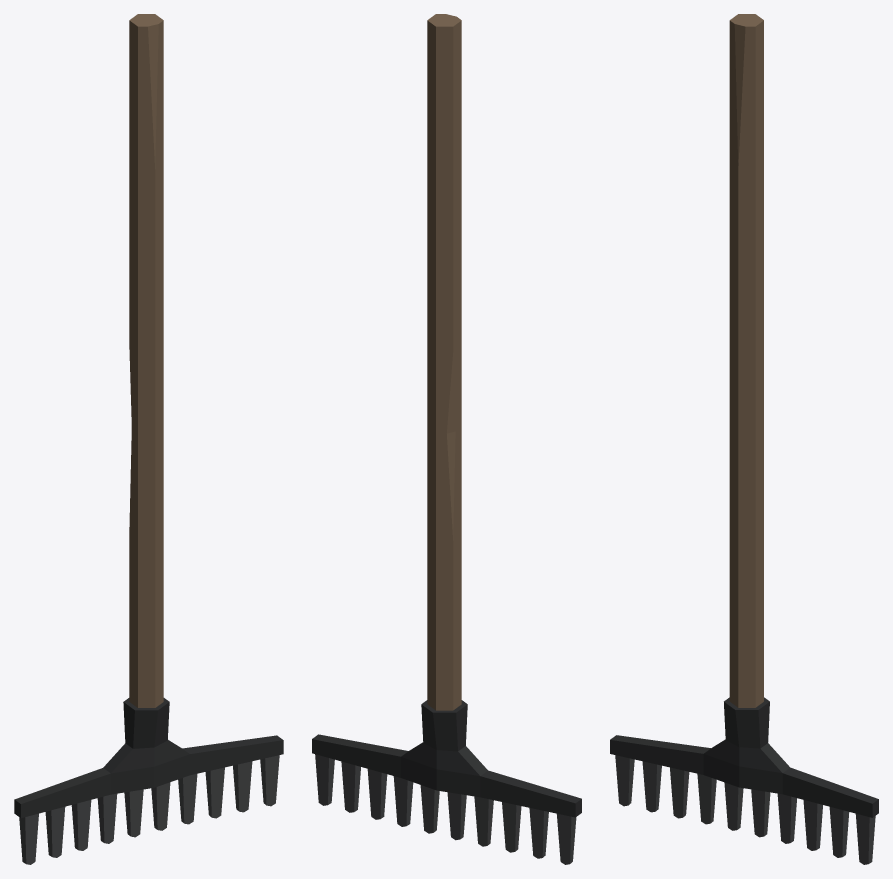
The model's file is SM_Props_Farm_Tool_Rake_01.fbx.
3 renders of one model, left to right at view 1: azimuth 30°, elevation 25°; view 2: azimuth 150°, elevation 25°; view 3: azimuth 330°, elevation 25°, orthographic.
Parts seen in each view (by area): view 1: SM_Props_Farm_Tool_Rake_01; view 2: SM_Props_Farm_Tool_Rake_01; view 3: SM_Props_Farm_Tool_Rake_01.
Boxes of the visible parts, x1,y1,x2,y2 form: SM_Props_Farm_Tool_Rake_01: (14, 14, 283, 864); SM_Props_Farm_Tool_Rake_01: (312, 14, 581, 864); SM_Props_Farm_Tool_Rake_01: (610, 14, 878, 864).
Bounding box in the file's own units: 39.59 × 117 × 6.04.
